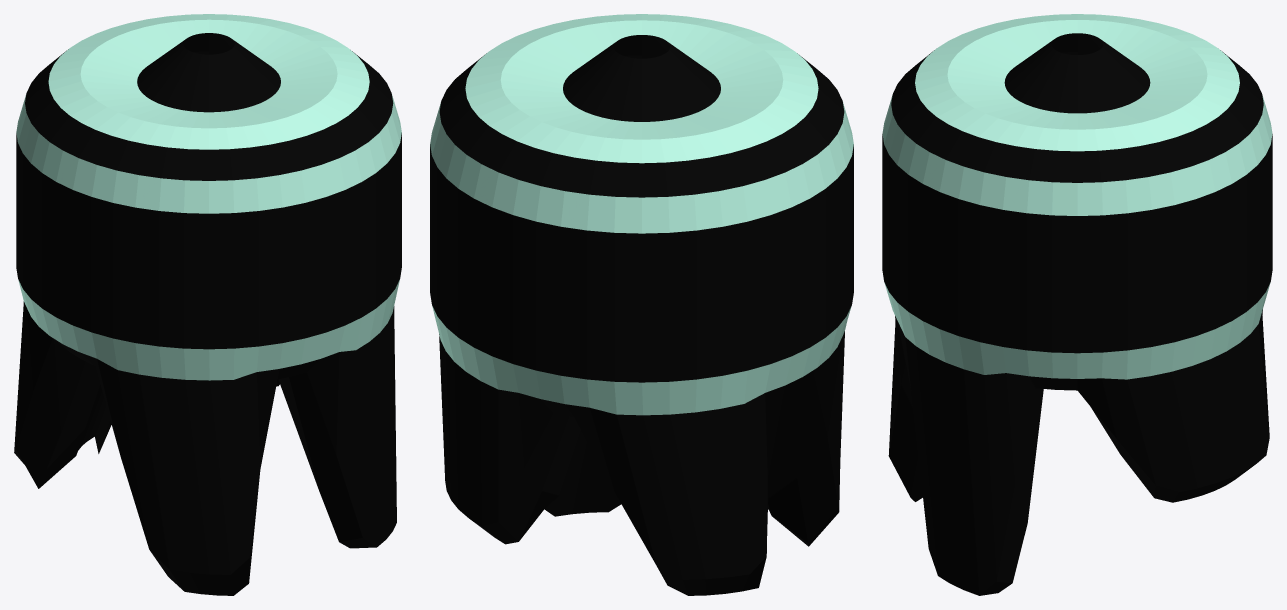
File: Gun.fbx
The picture shows the model from 3 angles, left to right: view 1: azimuth 30°, elevation 25°; view 2: azimuth 150°, elevation 25°; view 3: azimuth 270°, elevation 25°; orthographic projection. The views are drawn at different scales.
Visible parts, largest first — view 1: Gun; view 2: Gun; view 3: Gun.
Boxes of the visible parts, x1=… form: Gun: x1=14, y1=14, x2=401, y2=595; Gun: x1=430, y1=14, x2=853, y2=595; Gun: x1=882, y1=14, x2=1272, y2=595.
Size of the model in its own units: 60 by 83.27 by 60.
